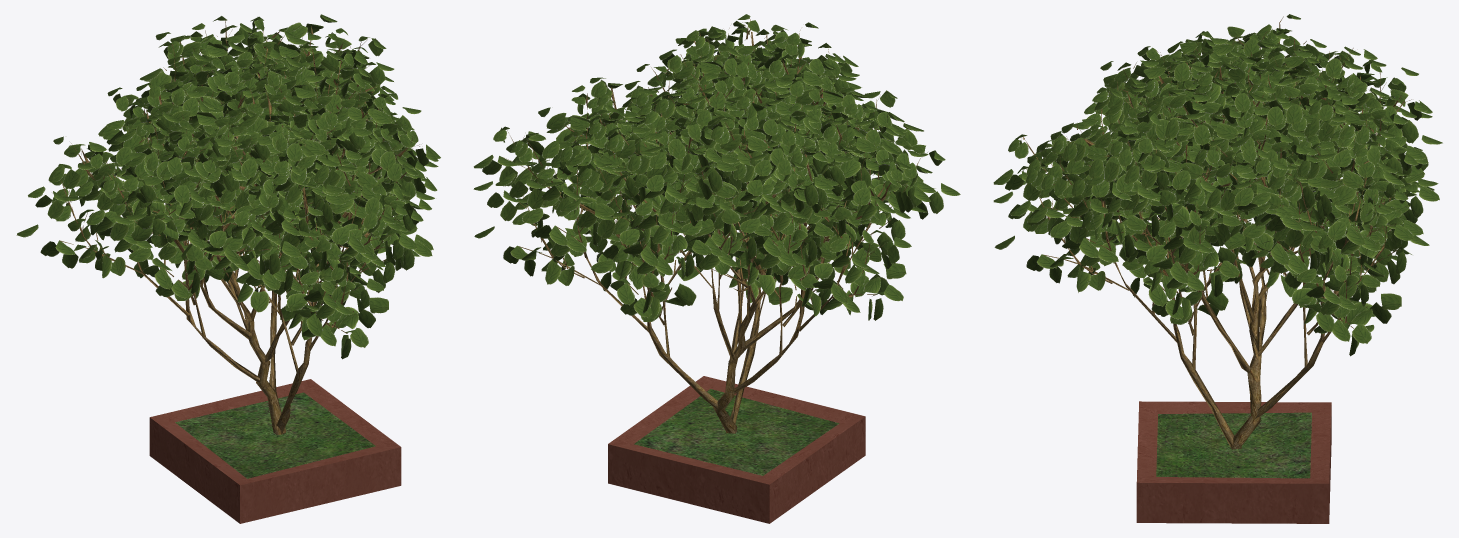
Rendered from Arbol.obj.
The picture shows the model from 3 angles, left to right: view 1: azimuth 30°, elevation 25°; view 2: azimuth 150°, elevation 25°; view 3: azimuth 270°, elevation 25°; orthographic projection. The views are drawn at different scales.
Visible parts, largest first — view 1: objTree; view 2: objTree; view 3: objTree.
Boxes of the visible parts, x1,y1,x2,y2 form: objTree: (16, 14, 440, 523); objTree: (473, 14, 960, 523); objTree: (993, 14, 1442, 523).
Size of the model in its own units: 3.21 by 3.09 by 2.97.
